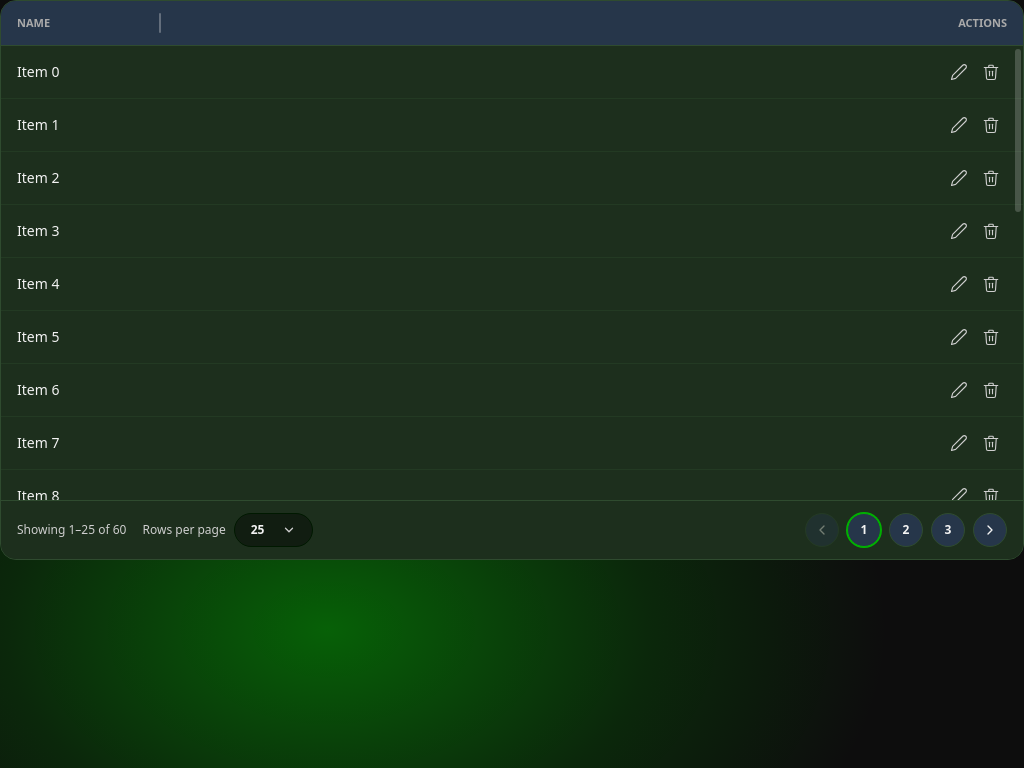
Test: DataTable › pagination › moves between pages with next / previous / numbered buttons
Click the button named "Next page". click: {"x": 990, "y": 530}
box: [973,513,1007,547]
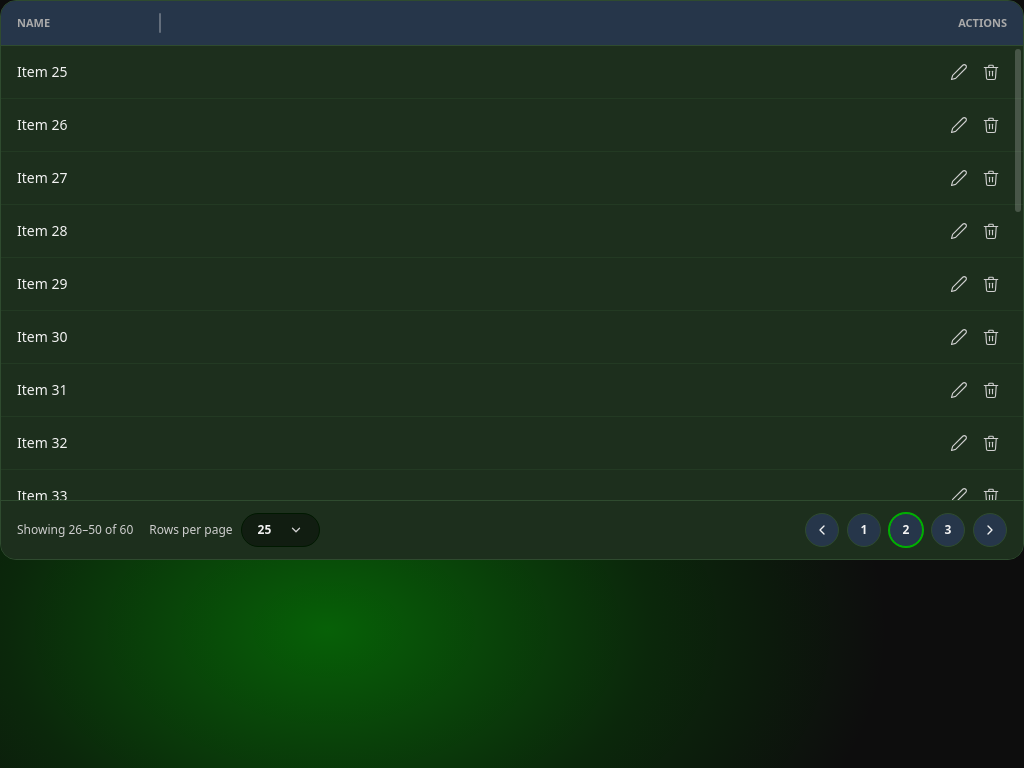
Check: the text "Showing 26–50 of 60" is shown, box [17,521,133,539]
Check: the text "Item 25" is shown, box [17,62,68,81]
Click the button named "Page 3". click: {"x": 948, "y": 530}
box: [931,513,965,547]
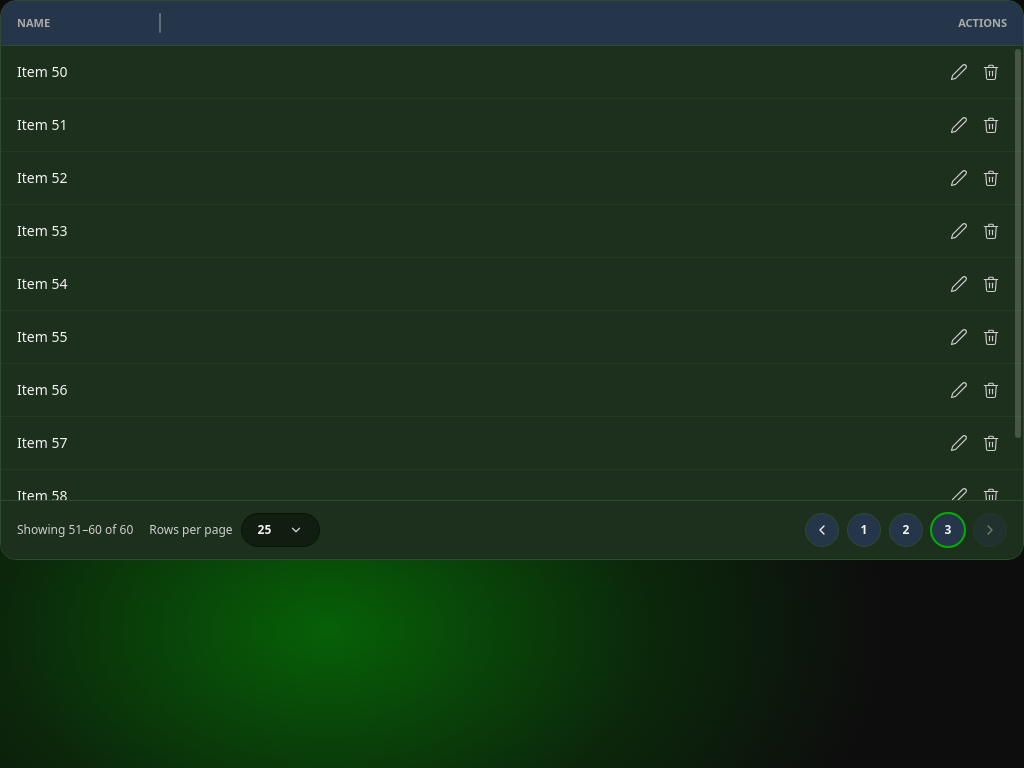
Check: the text "Showing 51–60 of 60" is shown, box [17,521,133,539]
Check: the button named "Next page" is disabled, box [973,513,1007,547]
Click the button named "Previous page". click: {"x": 822, "y": 530}
box: [805,513,839,547]
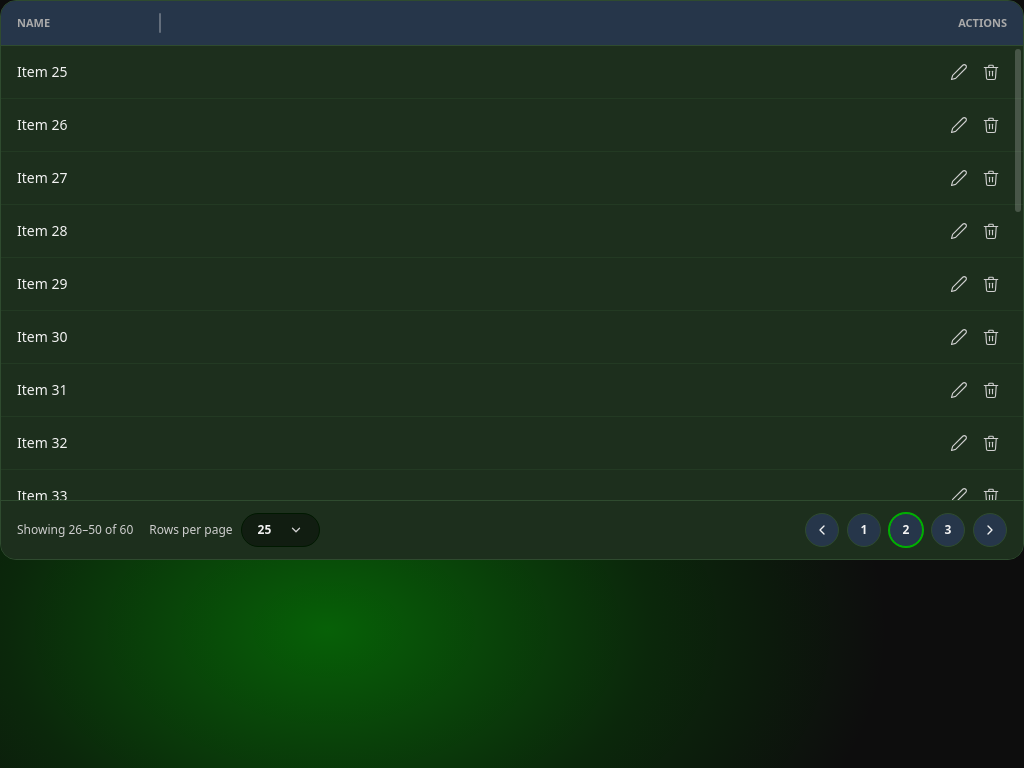
Check: the text "Showing 26–50 of 60" is shown, box [17,521,133,539]
